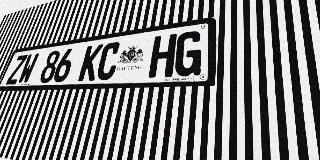6: (52, 48, 77, 82)
8: (38, 50, 62, 83)
C: (95, 41, 122, 80)
G: (173, 30, 203, 77)
H: (148, 33, 177, 78)
K: (77, 44, 104, 81)
W: (16, 53, 40, 84)
Z: (5, 54, 28, 85)
